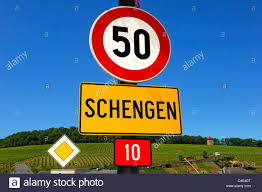Speed_limit_50km: (89, 6, 171, 82)
